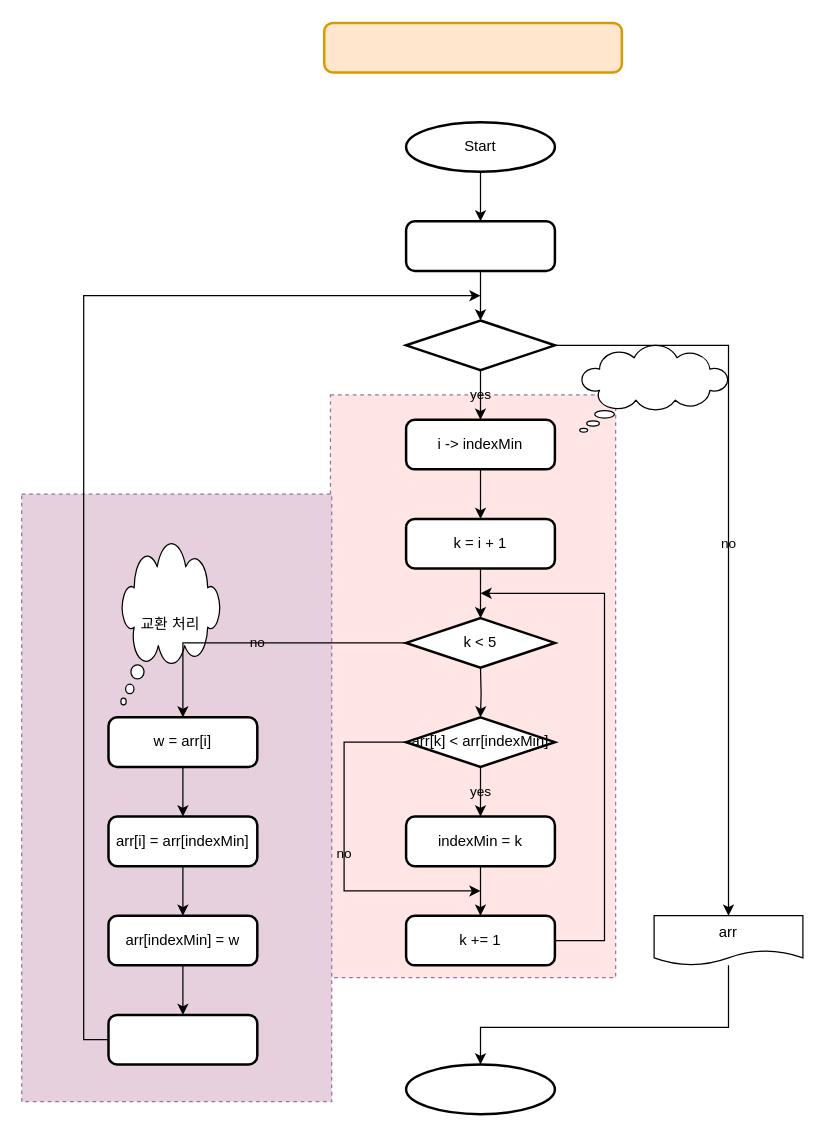
Image size: 825x1136. Some labels were removed from this diagram. Here are the shapes that lost their labels. From the top down, the centre of each, then its label:
At point (472, 47): "정렬 - 단순 탐색법_최종".
At point (480, 245): "i = 0".
At point (480, 345): "i < 4".
At point (653, 388): "최소값 찾기".
At point (182, 1039): "i = i + 1".
At point (480, 1089): "End".
